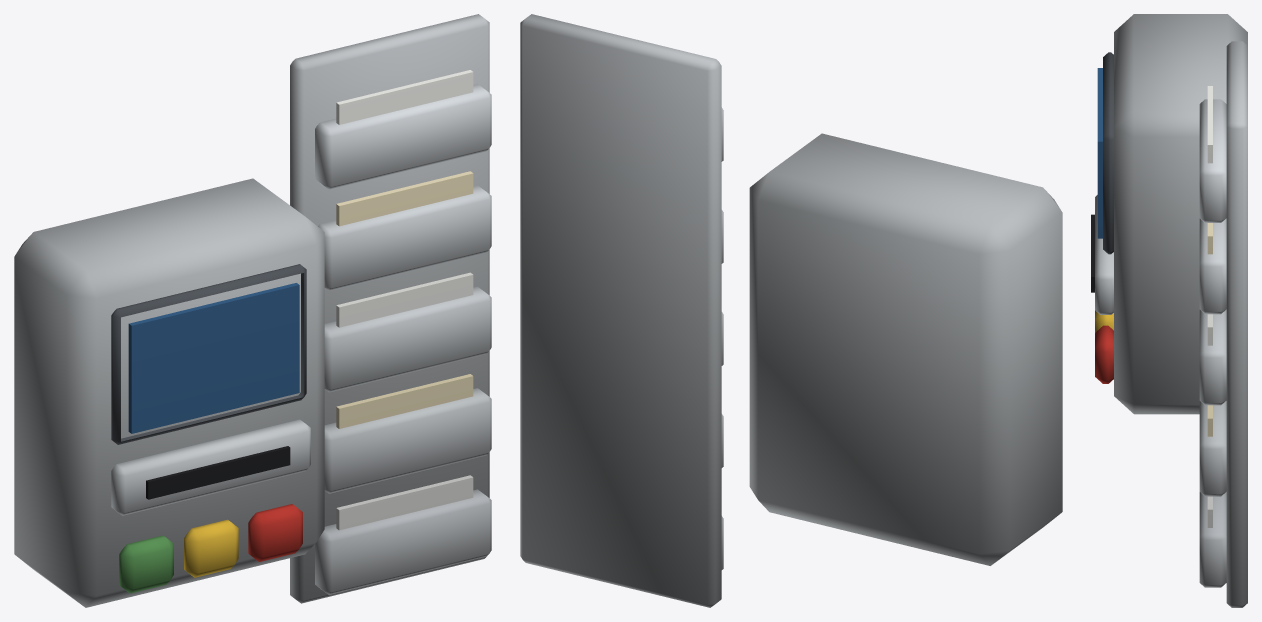
Rendered from TimeClock_Wall_01.glb.
The picture shows the model from 3 angles, left to right: view 1: azimuth 30°, elevation 25°; view 2: azimuth 150°, elevation 25°; view 3: azimuth 270°, elevation 25°; orthographic projection. The views are drawn at different scales.
Visible parts, largest first — view 1: SM_TimeClock_Wall_01; view 2: SM_TimeClock_Wall_01; view 3: SM_TimeClock_Wall_01.
Boxes of the visible parts, box(x1,y1,x2,y2) form: SM_TimeClock_Wall_01: box(14, 14, 491, 607); SM_TimeClock_Wall_01: box(520, 14, 1062, 607); SM_TimeClock_Wall_01: box(1091, 14, 1247, 607).
Size of the model in its own units: 0.37 by 0.4 by 0.117.
1 material, 1 textured.
